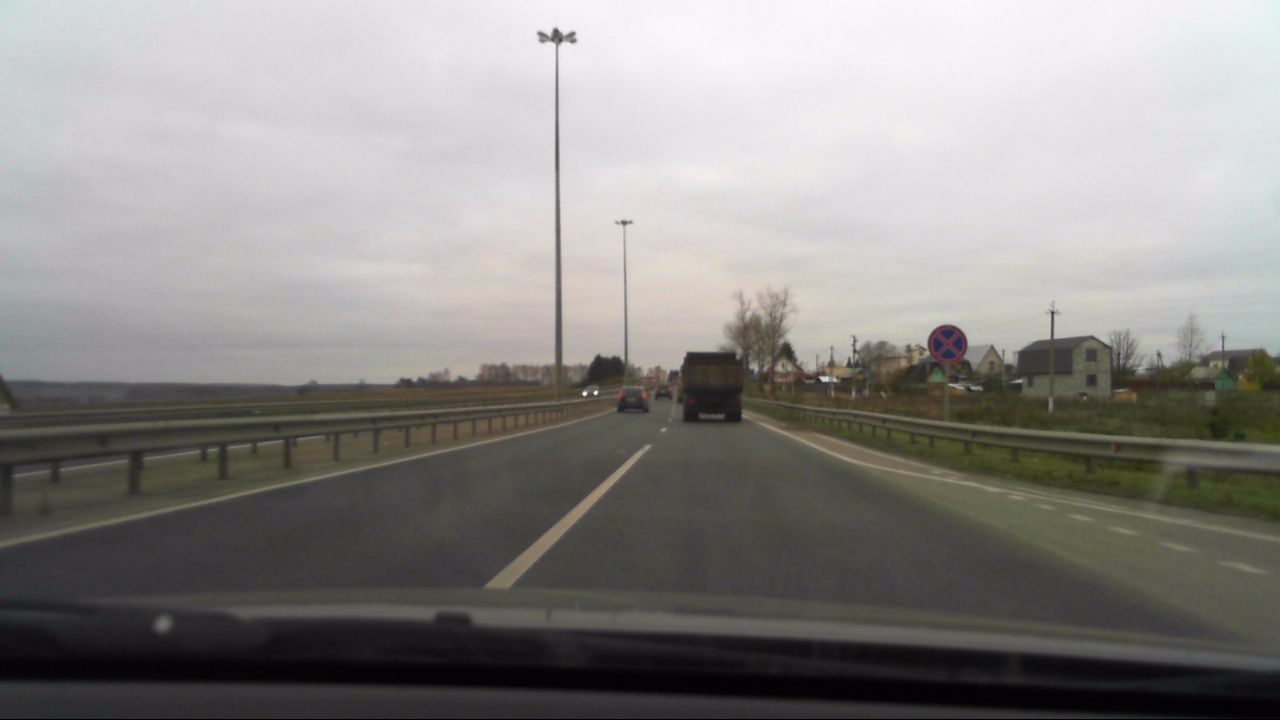No Parking: (924, 323, 972, 365)
